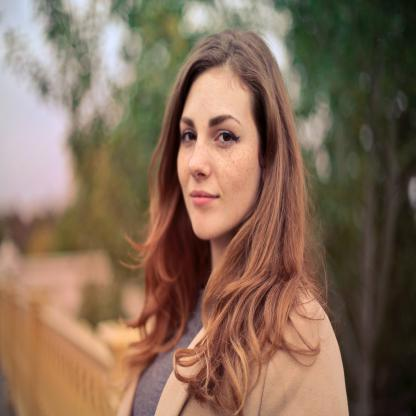Eye: (212, 129, 239, 147), (182, 128, 197, 144)
Mouth: (190, 190, 221, 206)
Nose: (188, 141, 211, 178)
